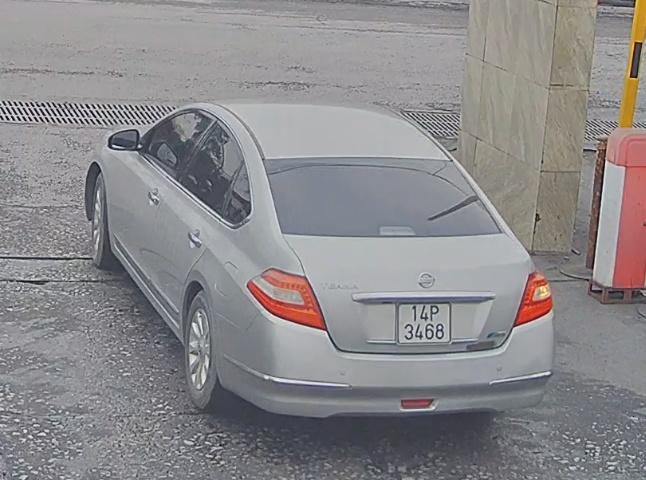vehicle plate: (398, 298, 457, 342)
